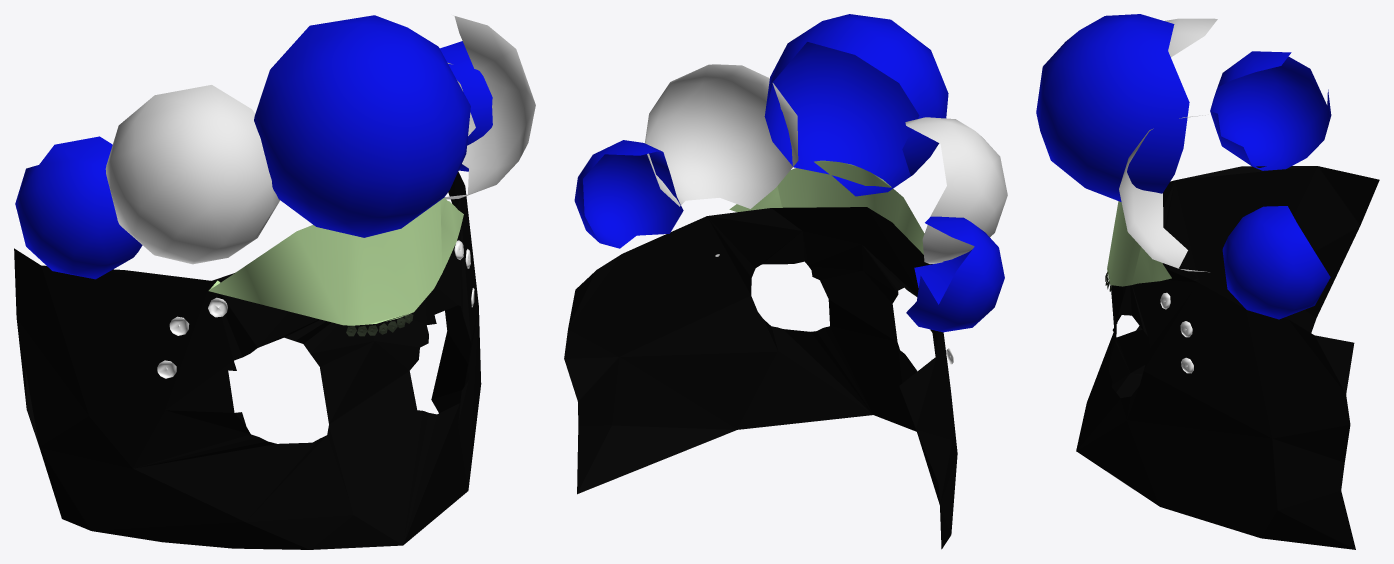
Rendered from Pompom.gltf.
3 renders of one model, left to right at view 1: azimuth 30°, elevation 25°; view 2: azimuth 150°, elevation 25°; view 3: azimuth 270°, elevation 25°, orthographic. The views are drawn at different scales.
Visible parts, largest first — view 1: Plane.003, Sphere.005, Plane; view 2: Plane.003, Sphere.005, Plane; view 3: Plane.003, Sphere.005, Plane.
Boxes of the visible parts, x1,y1,x2,y2 form: Plane.003: [14, 172, 481, 549]; Sphere.005: [15, 15, 535, 279]; Plane: [208, 197, 463, 325]; Plane.003: [564, 207, 957, 549]; Sphere.005: [574, 14, 1007, 332]; Plane: [729, 160, 934, 263]; Plane.003: [1076, 166, 1379, 549]; Sphere.005: [1036, 14, 1331, 319]; Plane: [1107, 201, 1171, 286].
Size of the model in its own units: 0.2601 by 0.2606 by 0.1827.
